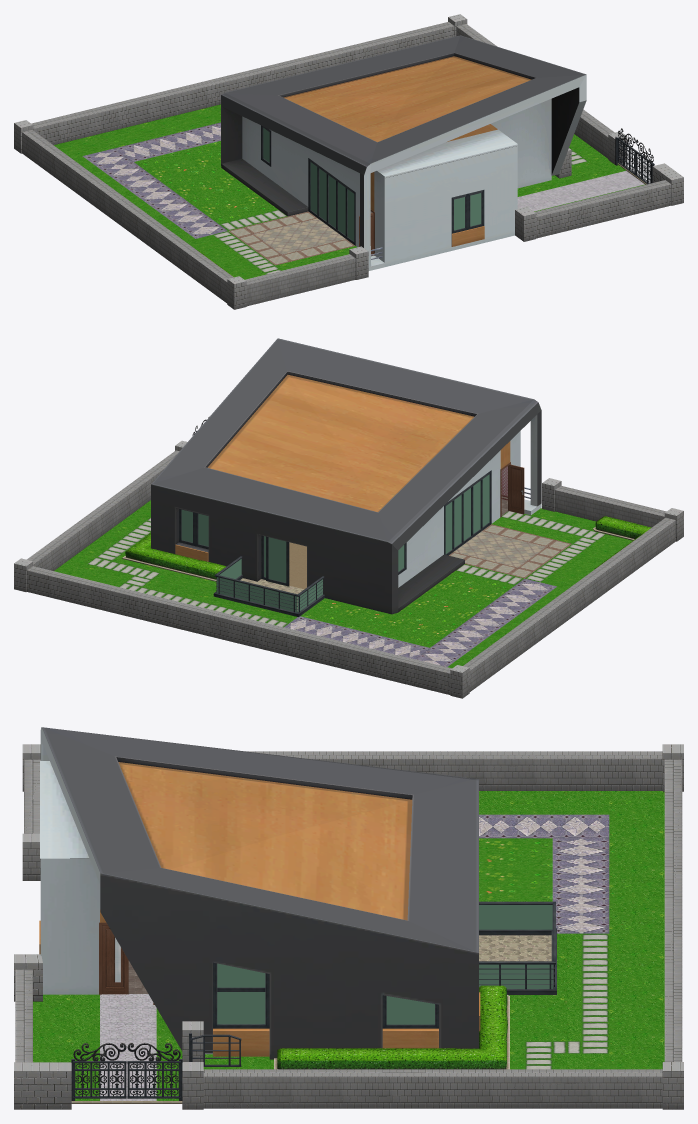
The model's file is house_0130000.FBX.
The picture shows the model from 3 angles, top to bottom: view 1: azimuth 30°, elevation 25°; view 2: azimuth 150°, elevation 25°; view 3: azimuth 270°, elevation 25°; orthographic projection. The views are drawn at different scales.
Parts seen in each view (by area): view 1: objhouse_0130000_roof_100_00, objhouse_0130000_groundbase_100_08, objhouse_0130000_outwall_100_05, objhouse_0130000_groundbase_100_00, objhouse_0130000_groundbase_100_02, objhouse_0130000_groundbase_100_01, objhouse_0130000_outwall_100_04, objhouse_0130000_outwall_100_01, objhouse_0130000_outwall_101_01, objhouse_0130000_groundbase_100_07, objhouse_0130000_groundbase_100_04, objhouse_0130000_outwall_100_02 (+7 smaller); view 2: objhouse_0130000_roof_100_00, objhouse_0130000_groundbase_100_08, objhouse_0130000_outwall_100_03, objhouse_0130000_groundbase_100_00, objhouse_0130000_groundbase_100_01, objhouse_0130000_groundbase_100_02, objhouse_0130000_groundbase_100_03, objhouse_0130000_outwall_101_01, objhouse_0130000_outwall_100_04, objhouse_0130000_floor_105_00, objhouse_0130000_groundbase_100_06, objhouse_0130000_groundbase_100_04 (+6 smaller); view 3: objhouse_0130000_roof_100_00, objhouse_0130000_groundbase_100_08, objhouse_0130000_outwall_100_02, objhouse_0130000_groundbase_100_00, objhouse_0130000_groundbase_100_02, objhouse_0130000_outwall_100_00, objhouse_0130000_floor_105_00, objhouse_0130000_groundbase_100_06, objhouse_0130000_groundbase_100_11, objhouse_0130000_groundbase_100_07, objhouse_0130000_groundbase_100_01, objhouse_0130000_groundbase_100_03 (+3 smaller).
Part boxes in pixels (x1,y1,x2,y2): objhouse_0130000_roof_100_00: [221, 35, 586, 177]; objhouse_0130000_groundbase_100_08: [14, 14, 683, 309]; objhouse_0130000_outwall_100_05: [360, 144, 517, 266]; objhouse_0130000_groundbase_100_00: [54, 104, 645, 279]; objhouse_0130000_groundbase_100_02: [82, 122, 227, 238]; objhouse_0130000_groundbase_100_01: [134, 141, 277, 223]; objhouse_0130000_outwall_100_04: [242, 116, 384, 262]; objhouse_0130000_outwall_100_01: [491, 98, 551, 183]; objhouse_0130000_outwall_101_01: [308, 158, 374, 256]; objhouse_0130000_groundbase_100_07: [517, 170, 644, 211]; objhouse_0130000_groundbase_100_04: [228, 211, 354, 265]; objhouse_0130000_outwall_100_02: [551, 84, 586, 175]; objhouse_0130000_roof_100_00: [151, 338, 541, 552]; objhouse_0130000_groundbase_100_08: [14, 440, 683, 698]; objhouse_0130000_outwall_100_03: [151, 493, 398, 609]; objhouse_0130000_groundbase_100_00: [54, 500, 632, 668]; objhouse_0130000_groundbase_100_01: [300, 571, 514, 647]; objhouse_0130000_groundbase_100_02: [284, 578, 556, 666]; objhouse_0130000_groundbase_100_03: [87, 511, 606, 627]; objhouse_0130000_outwall_101_01: [444, 462, 524, 555]; objhouse_0130000_outwall_100_04: [398, 431, 520, 587]; objhouse_0130000_floor_105_00: [213, 556, 324, 617]; objhouse_0130000_groundbase_100_06: [122, 516, 651, 581]; objhouse_0130000_groundbase_100_04: [449, 524, 571, 578]; objhouse_0130000_roof_100_00: [40, 727, 478, 966]; objhouse_0130000_groundbase_100_08: [14, 744, 683, 1109]; objhouse_0130000_outwall_100_02: [99, 884, 478, 1053]; objhouse_0130000_groundbase_100_00: [33, 791, 664, 1100]; objhouse_0130000_groundbase_100_02: [479, 814, 609, 933]; objhouse_0130000_outwall_100_00: [40, 858, 106, 987]; objhouse_0130000_floor_105_00: [479, 901, 556, 994]; objhouse_0130000_groundbase_100_06: [274, 985, 509, 1069]; objhouse_0130000_groundbase_100_11: [71, 1033, 241, 1103]; objhouse_0130000_groundbase_100_07: [100, 994, 156, 1100]; objhouse_0130000_groundbase_100_01: [479, 838, 552, 901]; objhouse_0130000_groundbase_100_03: [524, 933, 609, 1069].
Bounding box in the file's own units: 2191 × 582 × 1897.
Materials: 54 (54 with a texture image).
